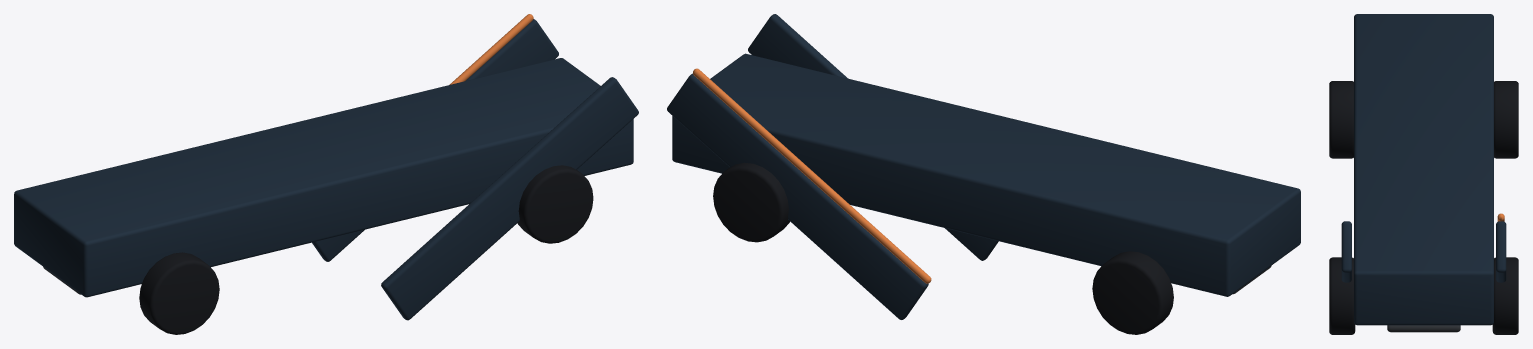
3 renders of one model, left to right at view 1: azimuth 30°, elevation 25°; view 2: azimuth 150°, elevation 25°; view 3: azimuth 270°, elevation 25°, orthographic. The views are drawn at different scales.
Parts seen in each view (by area): view 1: HerosTruckMark; view 2: HerosTruckMark; view 3: HerosTruckMark.
Part boxes in pixels (<box>): HerosTruckMark: <box>14,14,638,334</box>; HerosTruckMark: <box>667,14,1300,334</box>; HerosTruckMark: <box>1329,14,1518,334</box>.
Bounding box in the file's own units: 2.92 × 1 × 0.901.
